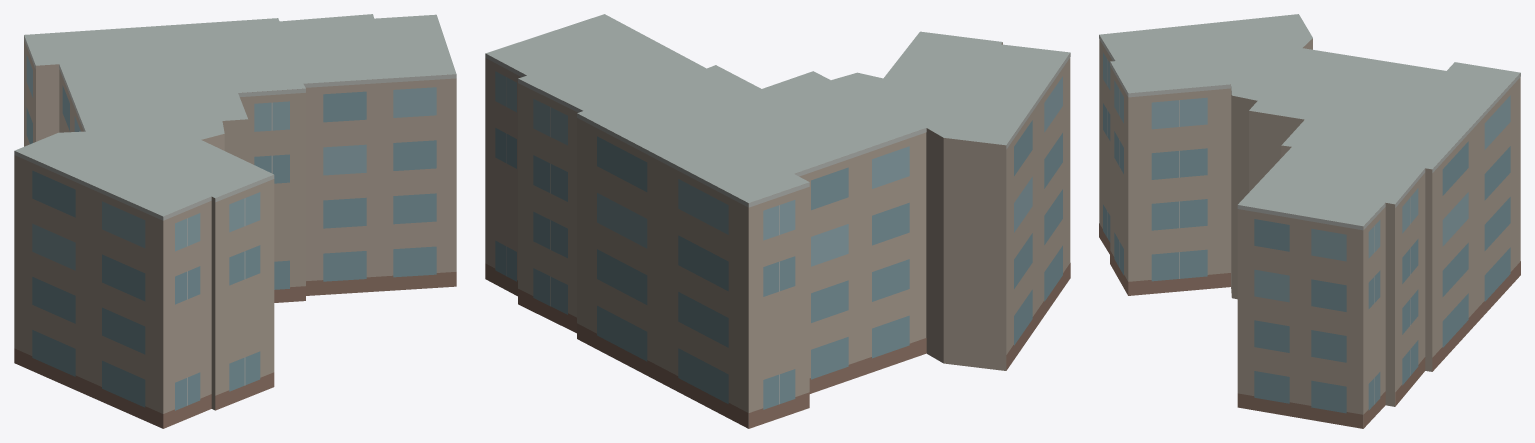
The model's file is survey-upis-32487087.glb.
The picture shows the model from 3 angles, left to right: view 1: azimuth 30°, elevation 25°; view 2: azimuth 150°, elevation 25°; view 3: azimuth 270°, elevation 25°; orthographic projection. The views are drawn at different scales.
Visible parts, largest first — view 1: survey-upis-32487087.tmp; view 2: survey-upis-32487087.tmp; view 3: survey-upis-32487087.tmp.
Boxes of the visible parts, bbox=[...] form: survey-upis-32487087.tmp: bbox=[14, 14, 456, 428]; survey-upis-32487087.tmp: bbox=[485, 14, 1070, 428]; survey-upis-32487087.tmp: bbox=[1099, 14, 1520, 428].
Bounding box in the file's own units: 27.43 × 12.2 × 23.02.
